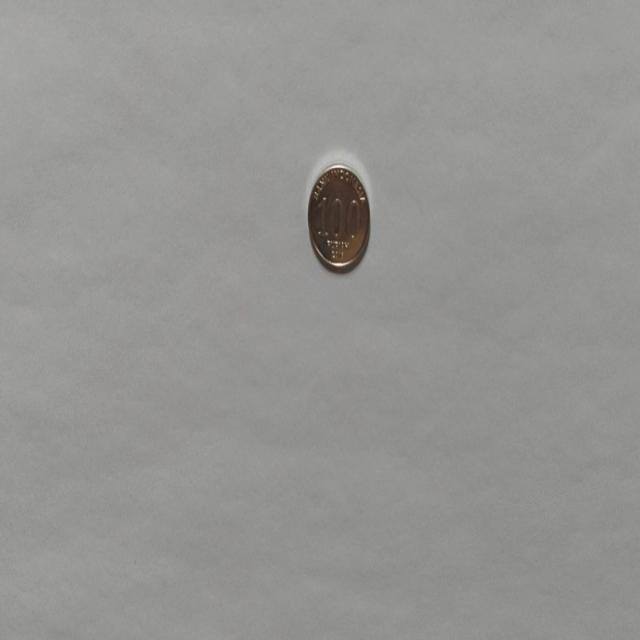seratus rupiah: (306, 161, 371, 273)
